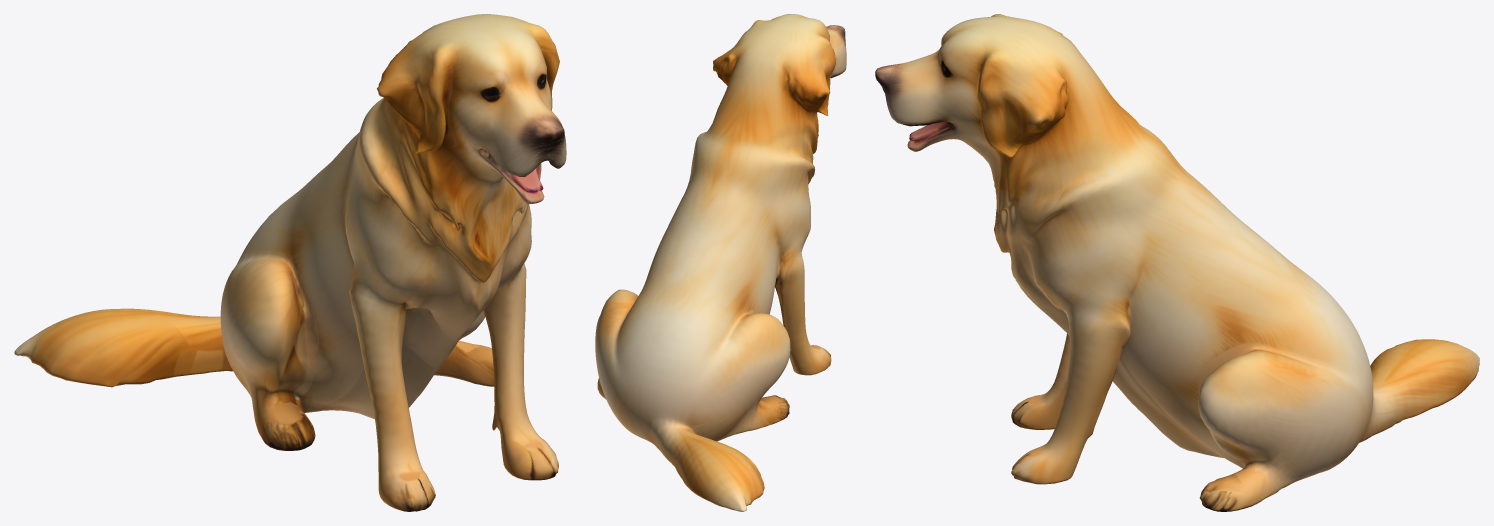
Rendered from retriever_tri.obj.
The picture shows the model from 3 angles, left to right: view 1: azimuth 30°, elevation 25°; view 2: azimuth 150°, elevation 25°; view 3: azimuth 270°, elevation 25°; orthographic projection. The views are drawn at different scales.
Size of the model in its own units: 1.14 by 1.45 by 1.89.
1 material, 1 textured.
